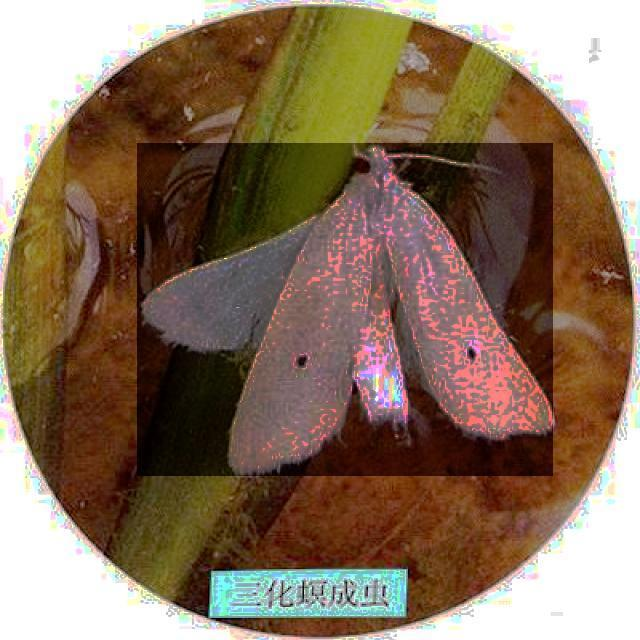stem-borer: (137, 144, 553, 476)
